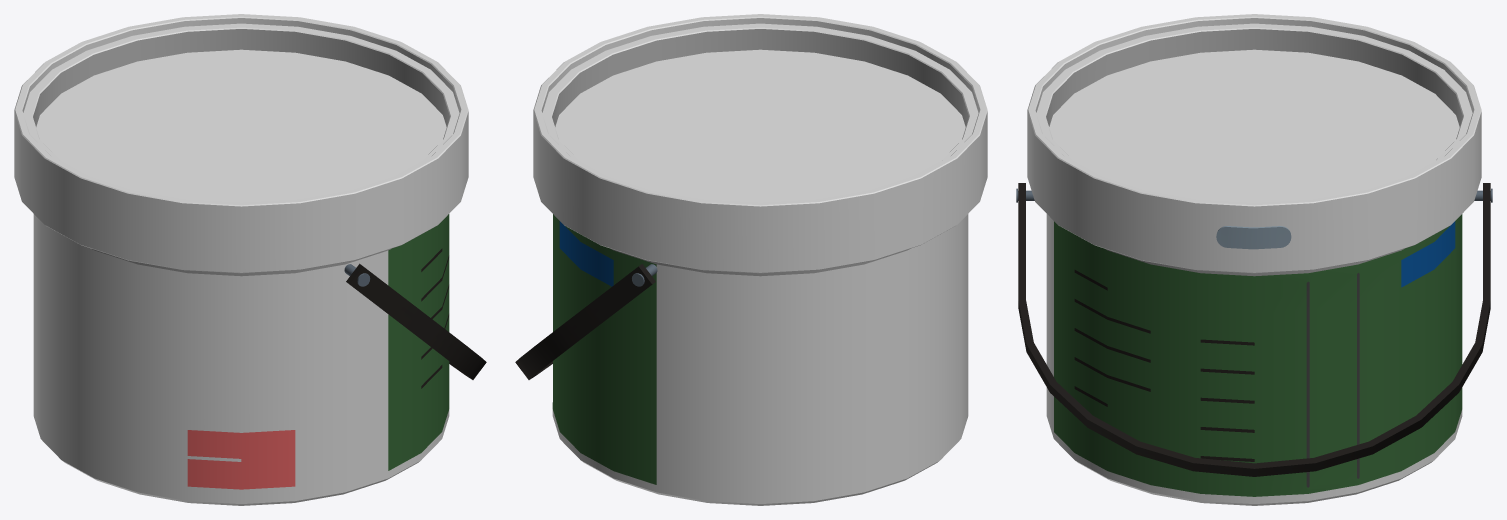
The model's file is SM_Cont_B_D.fbx.
3 views of the same model, side by side, from view 1: azimuth 30°, elevation 25°; view 2: azimuth 150°, elevation 25°; view 3: azimuth 270°, elevation 25° (orthographic).
Parts seen in each view (by area): view 1: SM_Cont_B_D; view 2: SM_Cont_B_D; view 3: SM_Cont_B_D.
Boxes of the visible parts, left/top/right/bottom form: SM_Cont_B_D: left=14, top=14, right=486, bottom=505; SM_Cont_B_D: left=515, top=14, right=987, bottom=505; SM_Cont_B_D: left=1016, top=14, right=1492, bottom=505.
Bounding box in the file's own units: 44.18 × 33.1 × 46.07.
